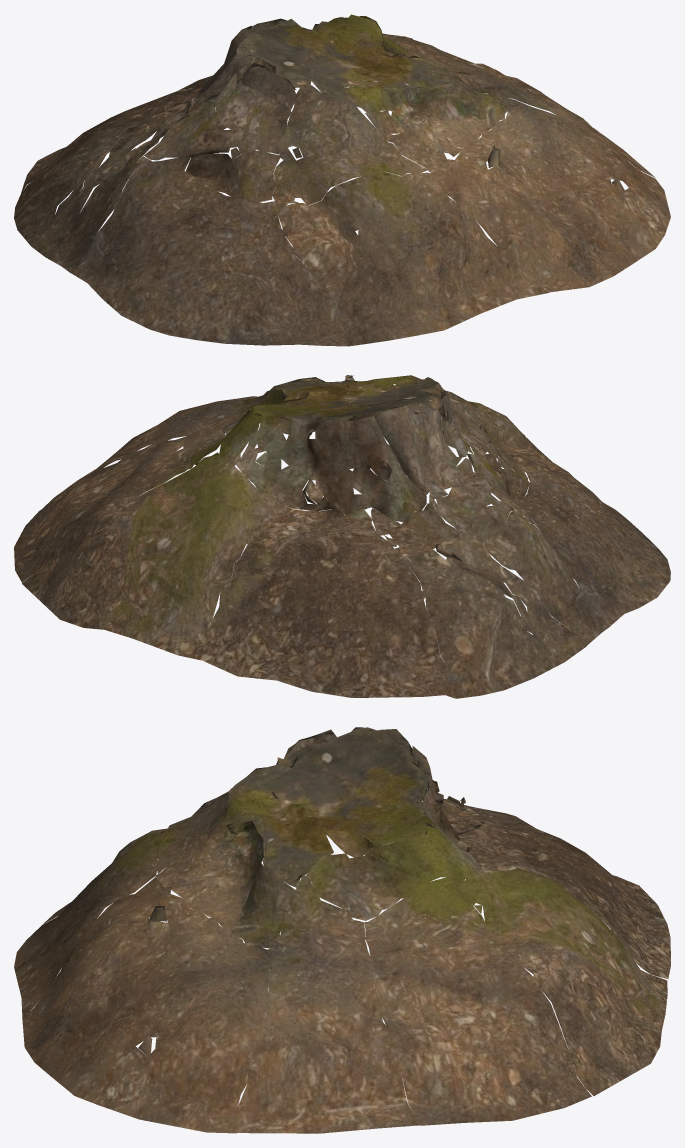
The model's file is old-stump.glb.
3 renders of one model, top to bottom at view 1: azimuth 30°, elevation 25°; view 2: azimuth 150°, elevation 25°; view 3: azimuth 270°, elevation 25°, orthographic. The views are drawn at different scales.
Visible parts, largest first — view 1: SM_Stump_Old_A_LOD0; view 2: SM_Stump_Old_A_LOD0; view 3: SM_Stump_Old_A_LOD0.
Boxes of the visible parts, x1=… form: SM_Stump_Old_A_LOD0: x1=14, y1=14, x2=670, y2=346; SM_Stump_Old_A_LOD0: x1=14, y1=375, x2=670, y2=698; SM_Stump_Old_A_LOD0: x1=14, y1=727, x2=670, y2=1133.
Size of what is drawn, in the model's own units: 1.89 by 0.6454 by 1.73.
Materials: 1 (1 with a texture image).
